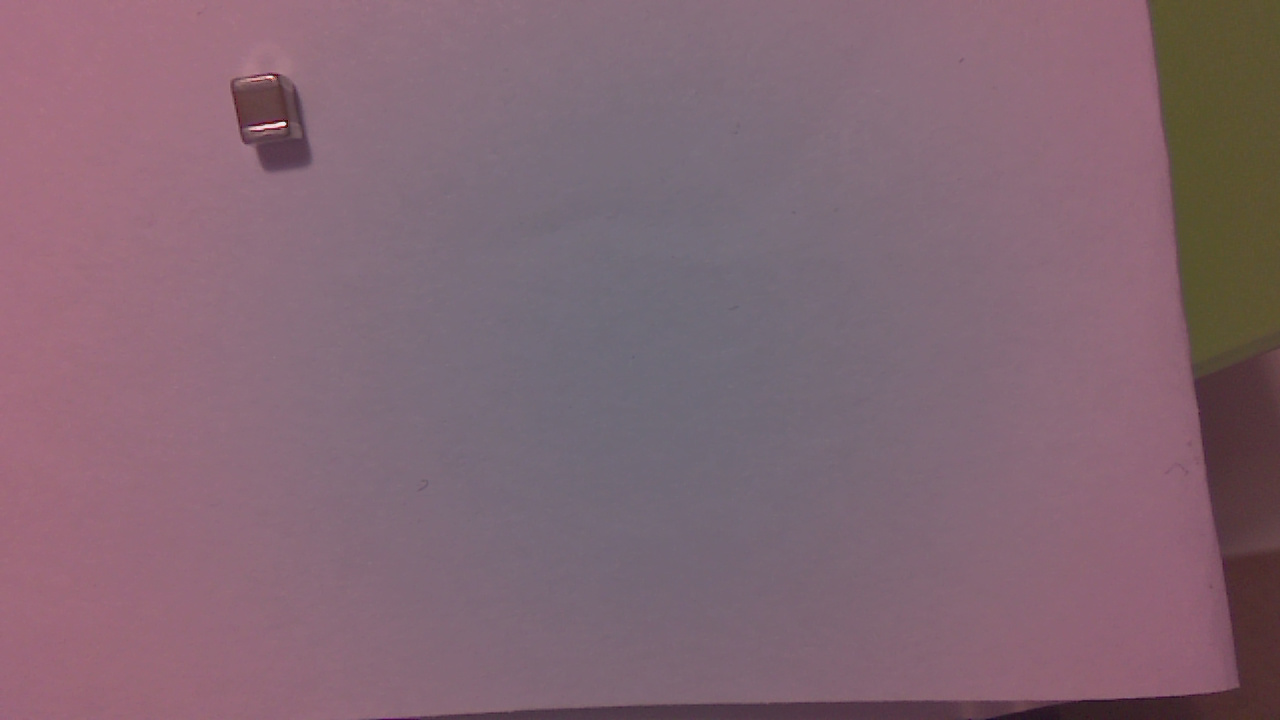Condensator: (232, 74, 310, 152)
